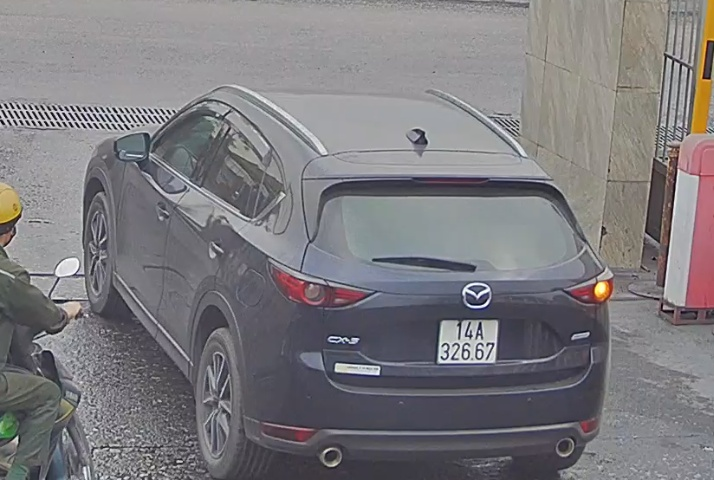vehicle plate: (432, 310, 506, 365)
